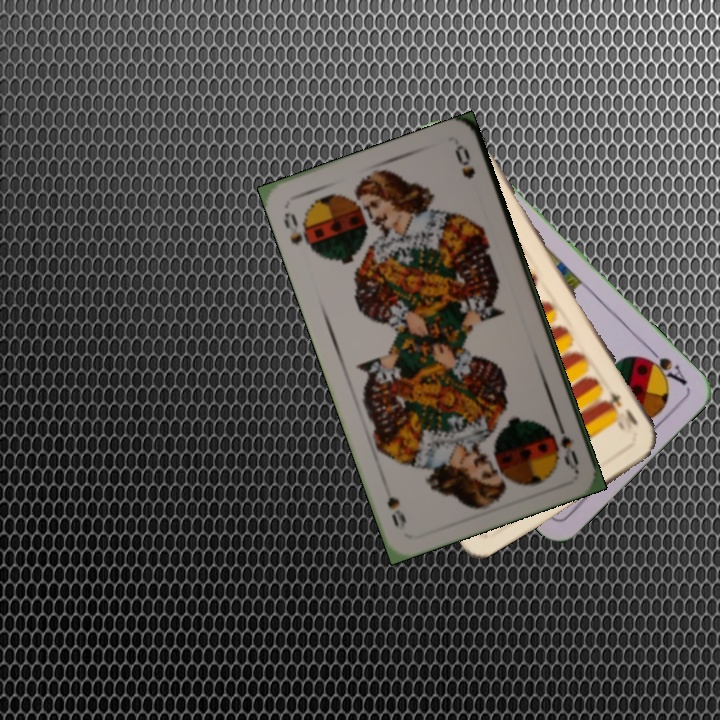E10: (600, 388, 641, 433)
SA: (637, 343, 690, 388)
SO: (279, 208, 316, 255), (552, 414, 581, 472)
